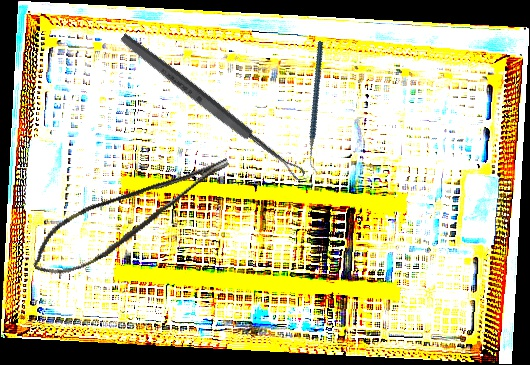Chopper: (269, 40, 367, 174)
Micro Scissor: (20, 150, 246, 287)
Surgical Spoon: (118, 30, 307, 184)
